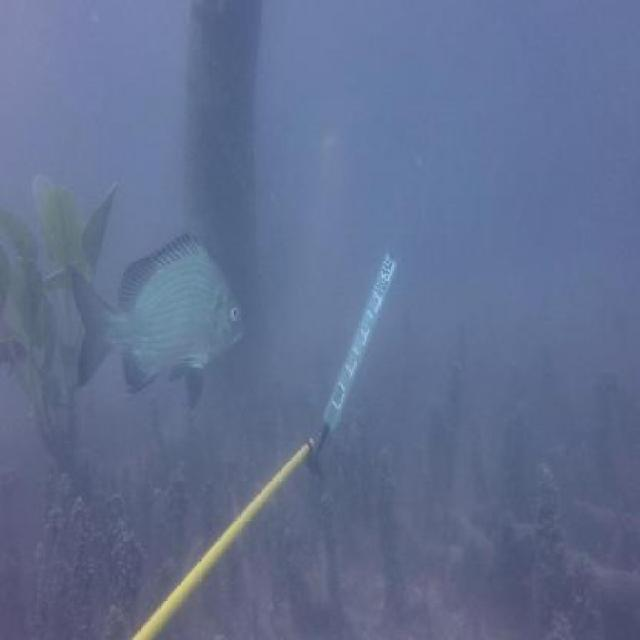acanthopagrus_palmaris: (71, 228, 251, 412)
